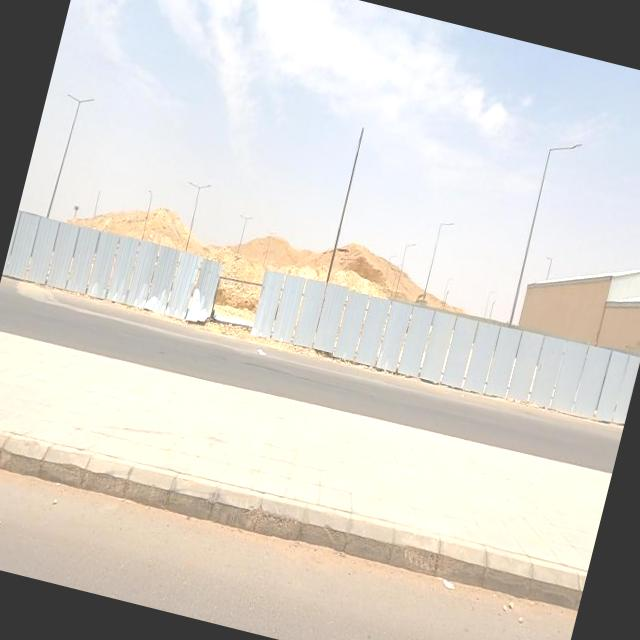debris: (408, 528, 482, 626), (237, 324, 284, 374)
